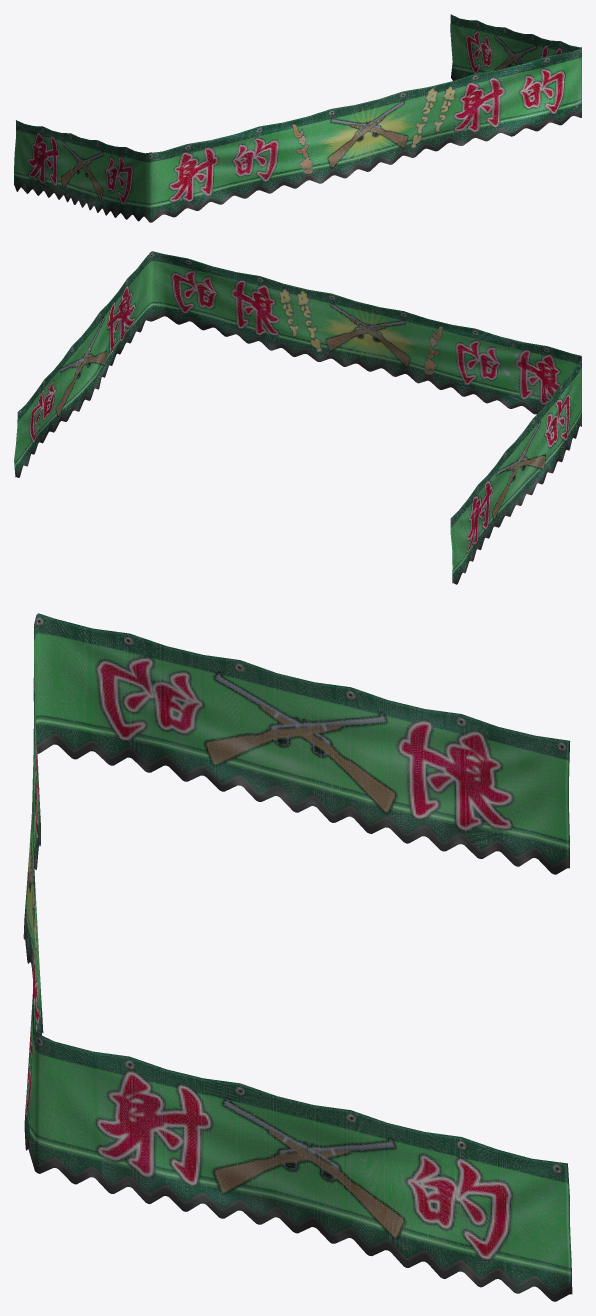
Rendered from jsf_ShopCurtain_Shooting_02.fbx.
3 renders of one model, top to bottom at view 1: azimuth 30°, elevation 25°; view 2: azimuth 150°, elevation 25°; view 3: azimuth 270°, elevation 25°, orthographic. The views are drawn at different scales.
Visible parts, largest first — view 1: jsf_ShopCurtain_Shooting_02; view 2: jsf_ShopCurtain_Shooting_02; view 3: jsf_ShopCurtain_Shooting_02.
Boxes of the visible parts, x1,y1,x2,y2 form: jsf_ShopCurtain_Shooting_02: (14,14,581,222); jsf_ShopCurtain_Shooting_02: (14,251,581,584); jsf_ShopCurtain_Shooting_02: (23,613,572,1301).
Size of the model in its own units: 404 by 116 by 216.
